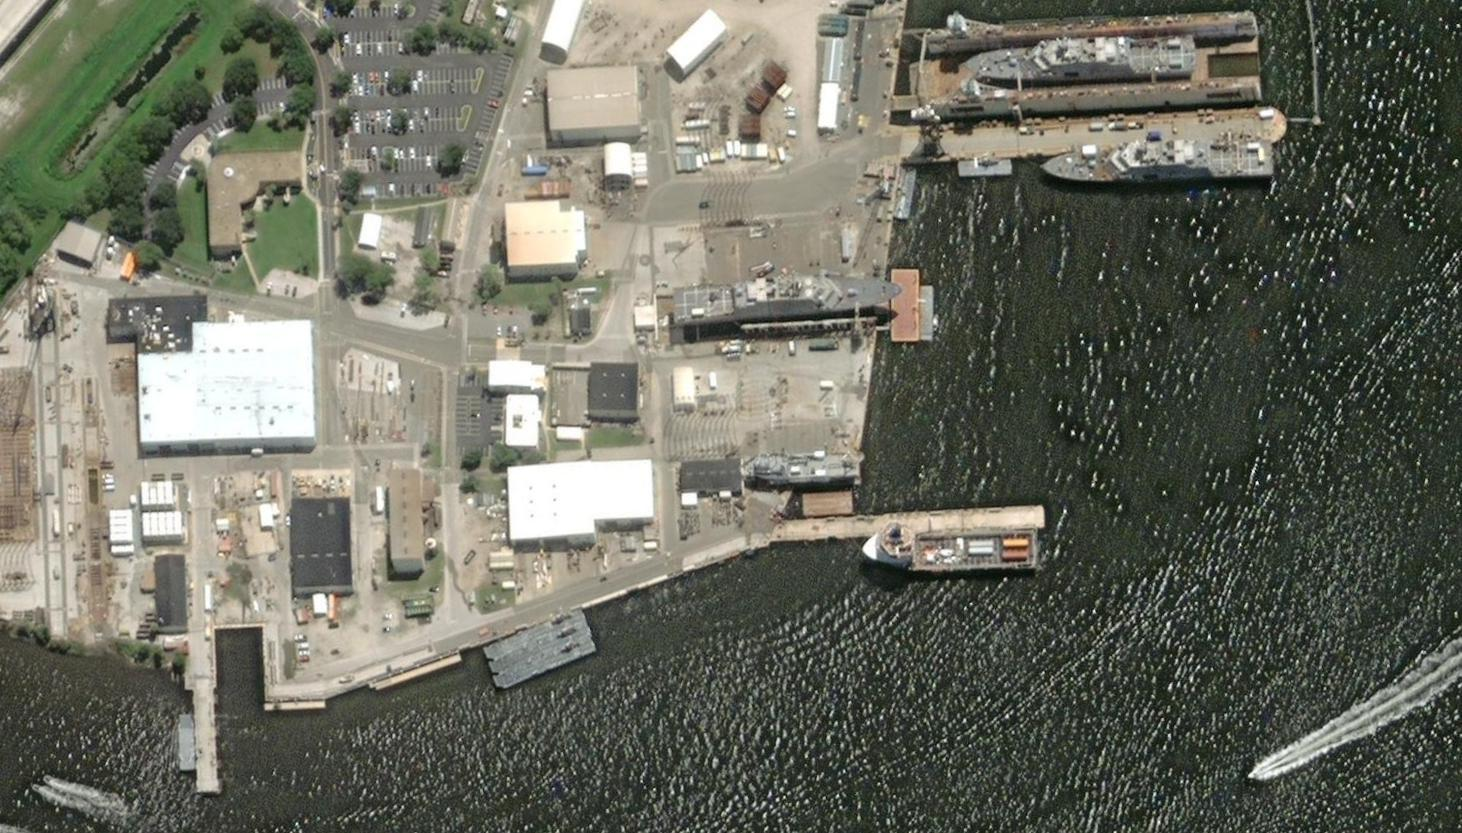patrol: (667, 266, 912, 336), (960, 27, 1213, 84), (1040, 131, 1290, 188)
